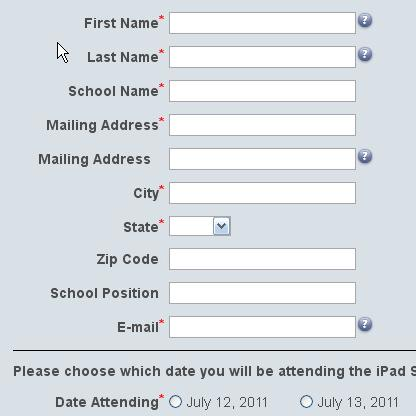field: (165, 314, 359, 340), (166, 180, 358, 206), (167, 281, 357, 307), (167, 10, 356, 36), (165, 112, 356, 137), (167, 246, 358, 271), (165, 146, 358, 170), (166, 78, 356, 102), (165, 45, 357, 68), (167, 214, 232, 237)
field_with_label: (51, 279, 361, 309), (37, 144, 359, 172), (45, 111, 359, 138), (68, 76, 357, 103), (84, 9, 359, 37), (98, 245, 359, 272), (117, 313, 360, 342), (89, 43, 359, 69), (135, 179, 359, 208), (124, 213, 234, 238)
radio: (168, 392, 185, 411), (297, 392, 313, 410)
radio_with_label: (295, 389, 398, 412), (167, 389, 268, 412)
